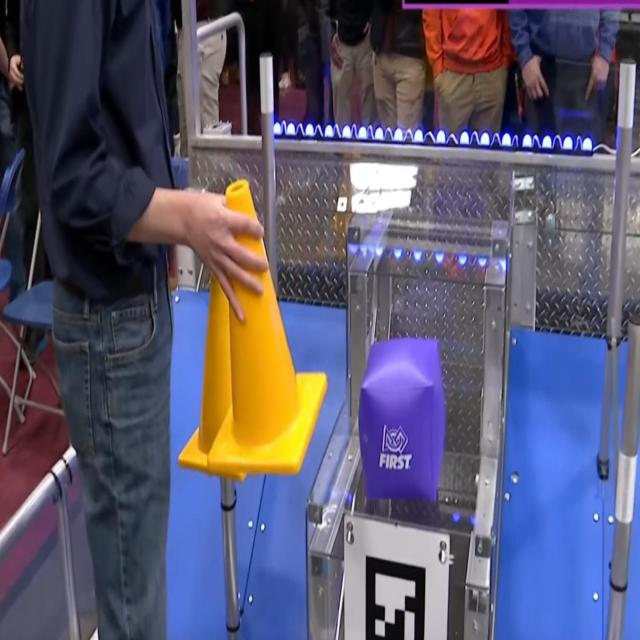frc_cone: (207, 181, 325, 472), (177, 270, 255, 483)
frc_cube: (360, 340, 447, 506)
